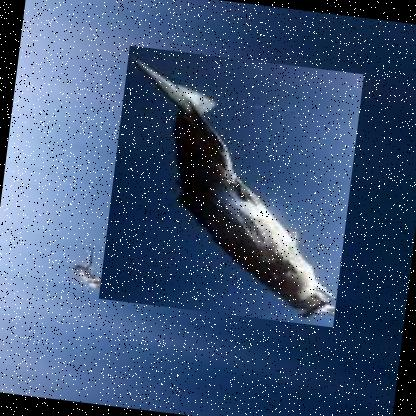sperm_whale: (98, 45, 364, 328)
